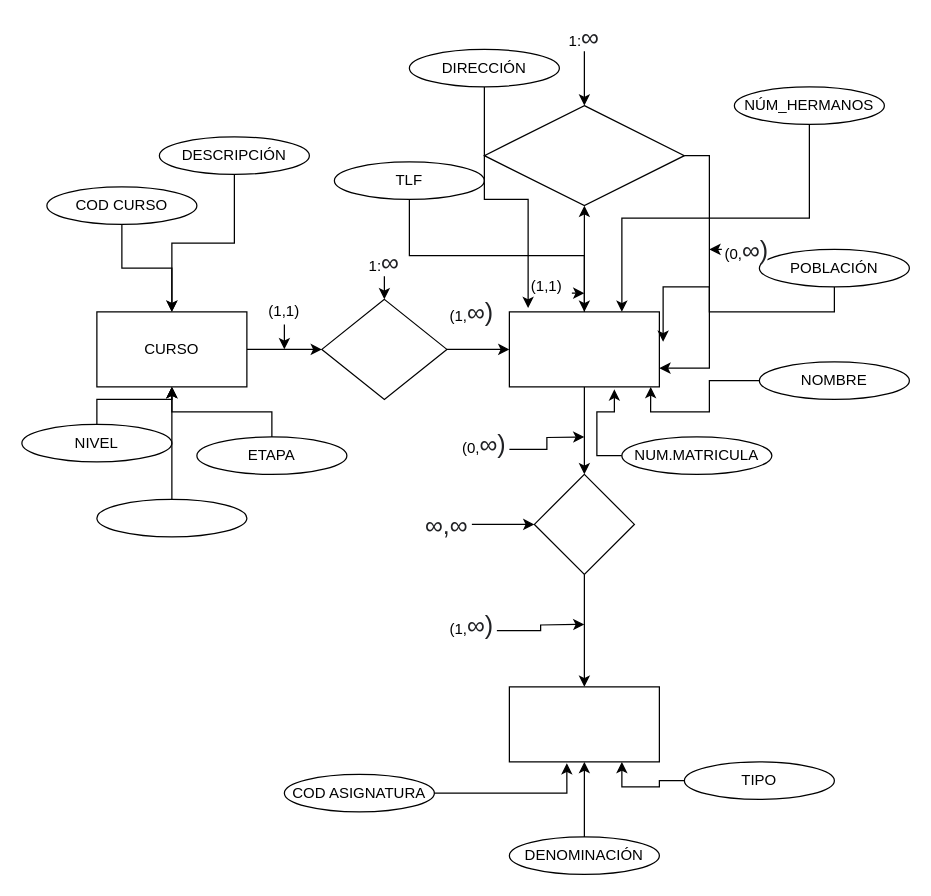
Image size: 931x896. Some labels were removed from this diagram. Here are the shapes that lost their labels. From the top down, the centre of each, then its label:
At point (583, 155): "ES DELEGADO".
At point (384, 348): "PERTENECE".
At point (583, 349): "ALUMNOS".
At point (171, 517): "TURNO".
At point (583, 523): "CURSA".
At point (583, 724): "ASIGNATURA".
